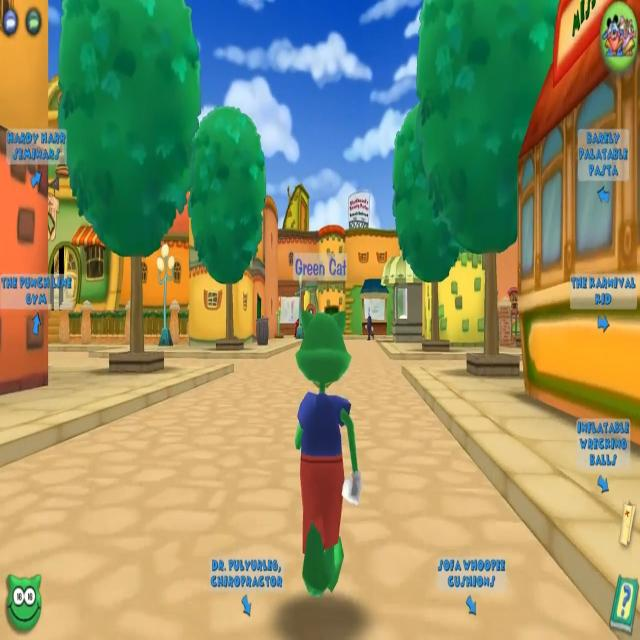doubletalker: (364, 308, 376, 342)
